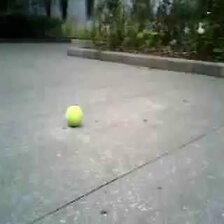tennis: (65, 105, 82, 122)
